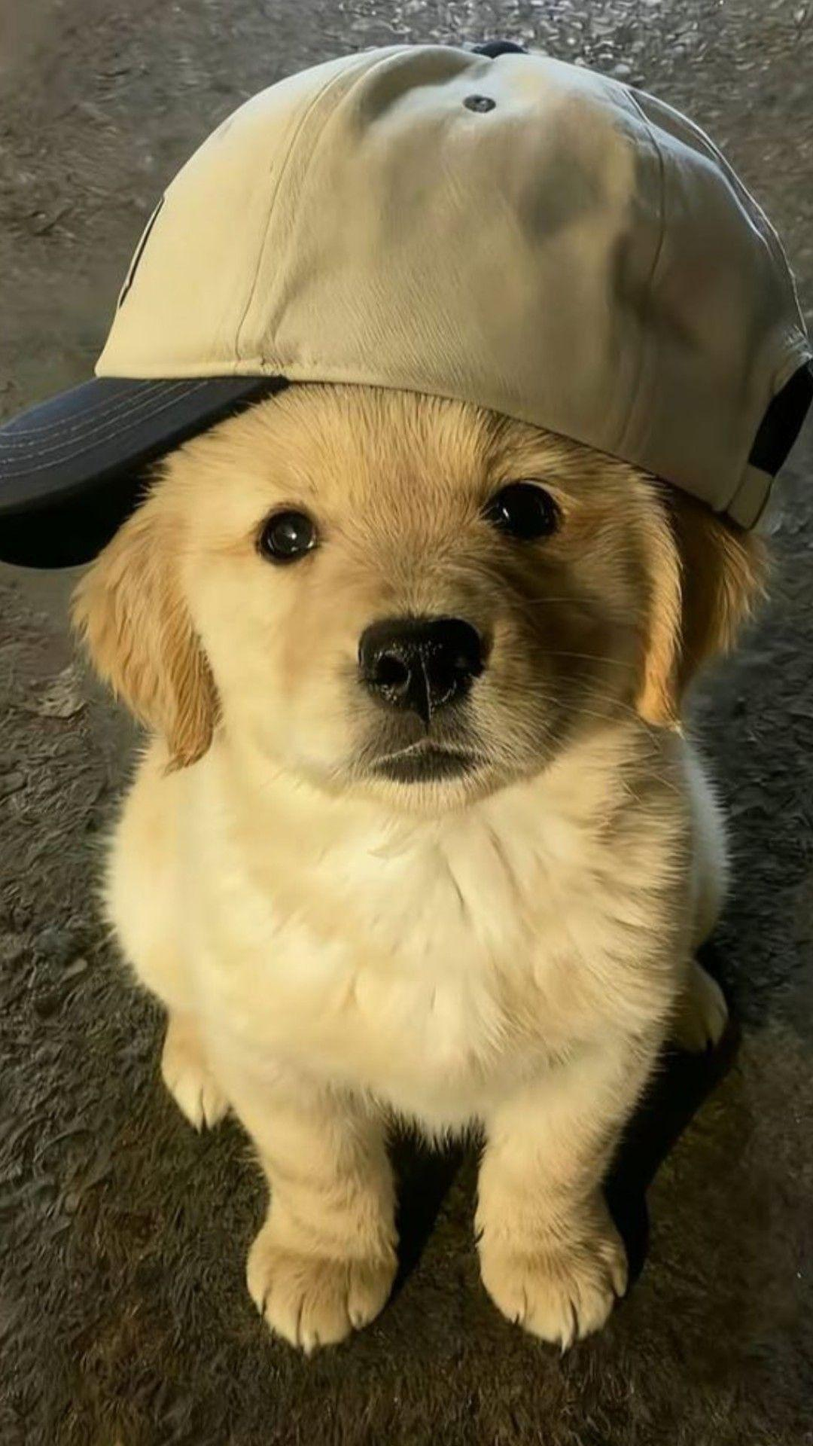puppy-dog: (65, 378, 788, 1359)
